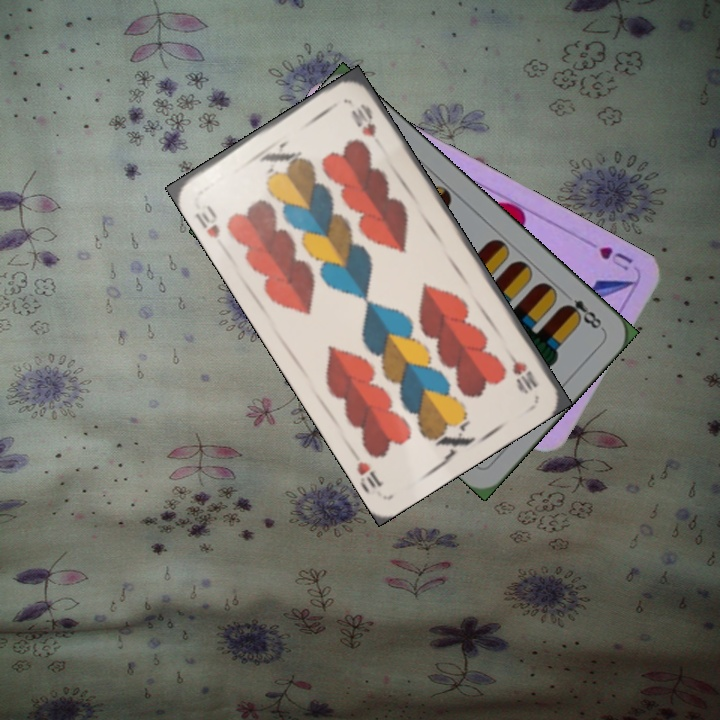E8: (559, 295, 606, 333)
H10: (500, 344, 540, 396), (191, 201, 223, 241)
HU: (595, 242, 635, 274)
